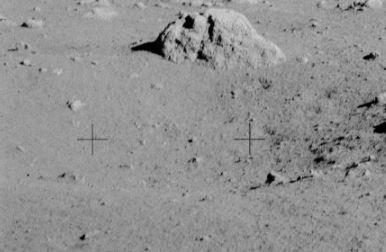rock: (161, 8, 286, 69)
